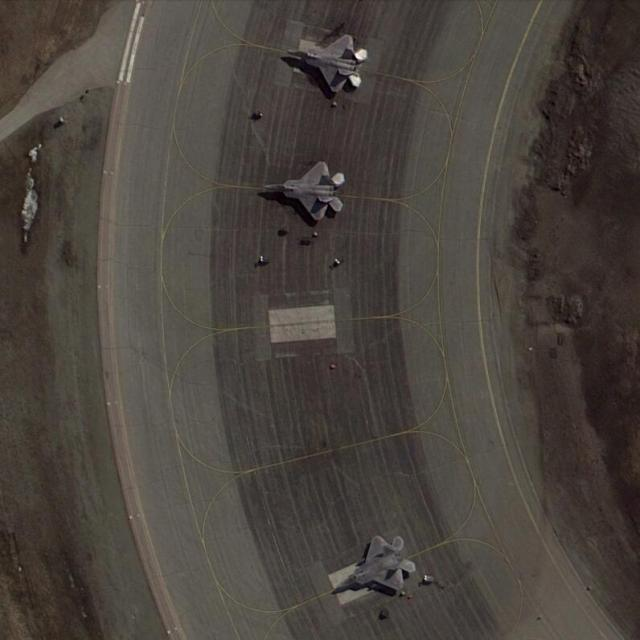fighter jet: (340, 533, 418, 601), (264, 159, 346, 223), (286, 32, 364, 93)
